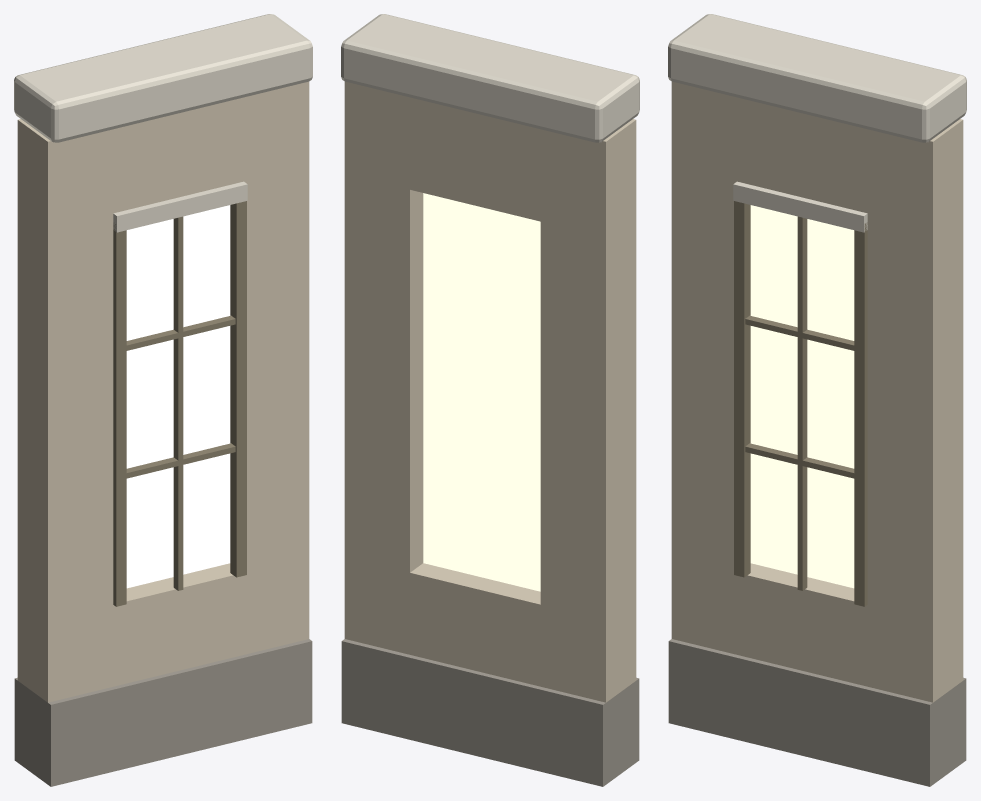
File: Window.glb
3 renders of one model, left to right at view 1: azimuth 30°, elevation 25°; view 2: azimuth 150°, elevation 25°; view 3: azimuth 330°, elevation 25°, orthographic.
Visible parts, largest first — view 1: Window; view 2: Window; view 3: Window.
Part boxes in pixels (<box>): Window: <box>14,14,312,786</box>; Window: <box>341,14,639,786</box>; Window: <box>668,14,966,786</box>.
Size of the model in its own units: 2 by 5 by 0.56.
